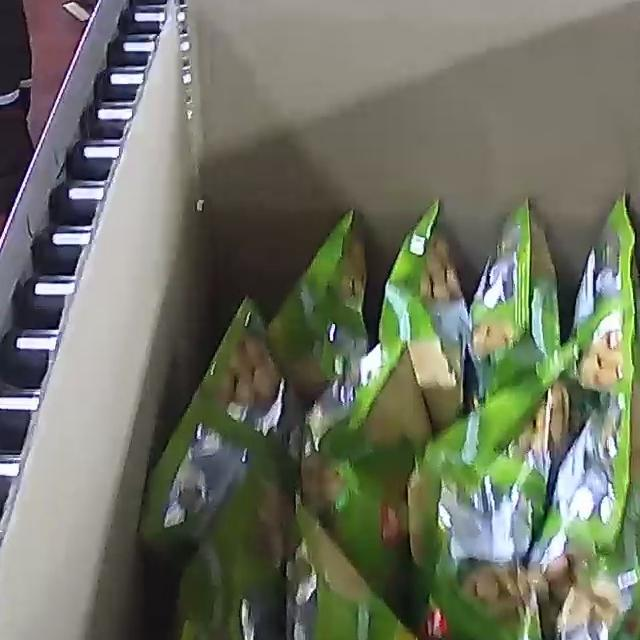yogurt: (132, 189, 640, 640)
